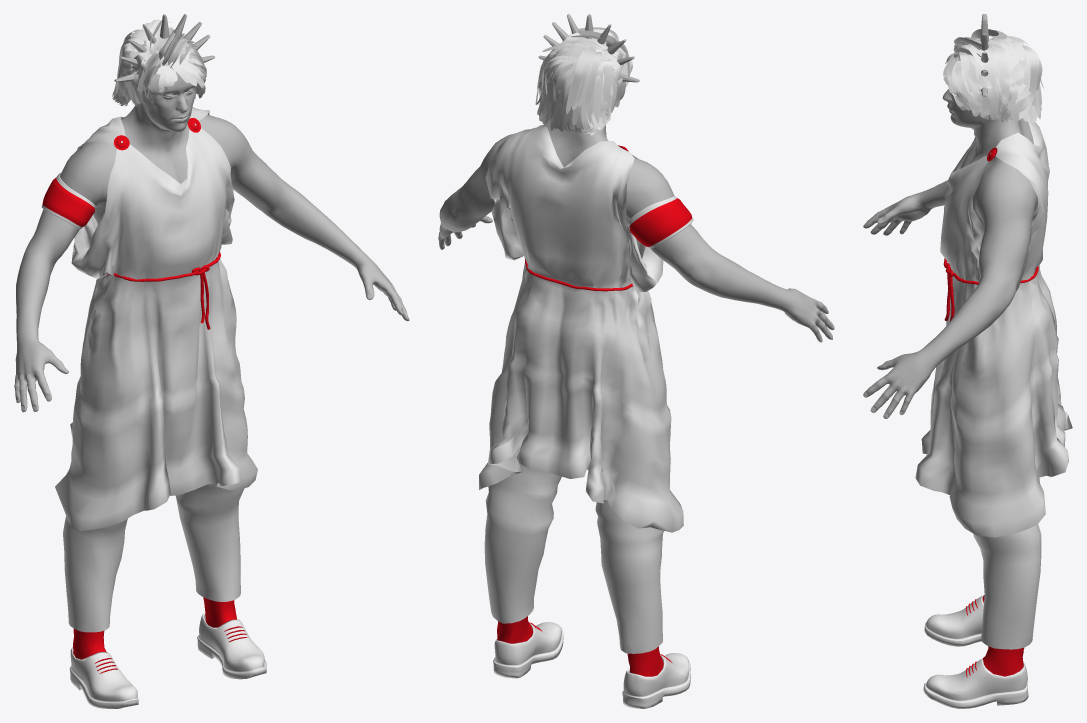
Rendered from Helios fixed.fbx.
3 renders of one model, left to right at view 1: azimuth 30°, elevation 25°; view 2: azimuth 150°, elevation 25°; view 3: azimuth 270°, elevation 25°, orthographic. The views are drawn at different scales.
Parts seen in each view (by area): view 1: Clothes, Body, Hair, ArmBand, HeadPiece; view 2: Clothes, Body, Hair, ArmBand, HeadPiece; view 3: Clothes, Body, Hair, HeadPiece.
Part boxes in pixels (x1,y1,x2,y2): Clothes: (55,107,266,708); Body: (14,67,409,412); Hair: (112,19,206,106); ArmBand: (41,172,95,228); HeadPiece: (114,14,214,81); Clothes: (479,123,690,708); Body: (438,104,834,342); Hair: (535,26,632,135); ArmBand: (627,195,693,248); HeadPiece: (538,14,639,82); Clothes: (915,120,1072,708); Body: (863,89,1037,418); Hair: (943,29,1043,124); HeadPiece: (980,14,988,96).
Bounding box in the file's own units: 1240 × 2034 × 595.
